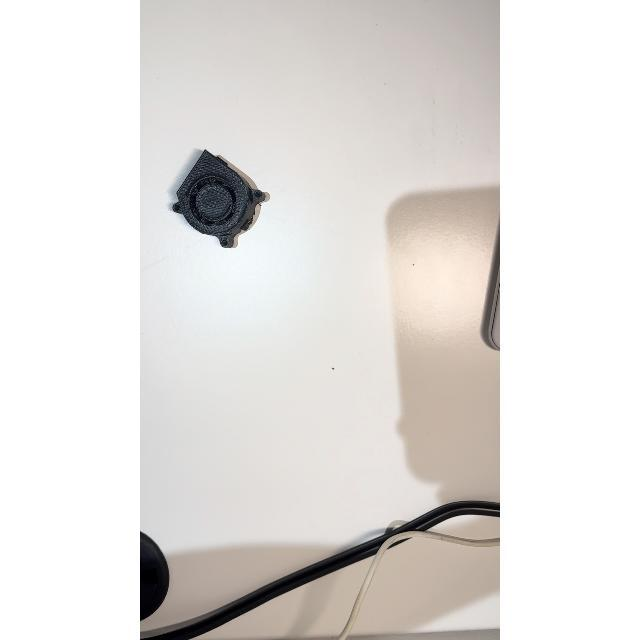Pieza3: (158, 138, 274, 262)
